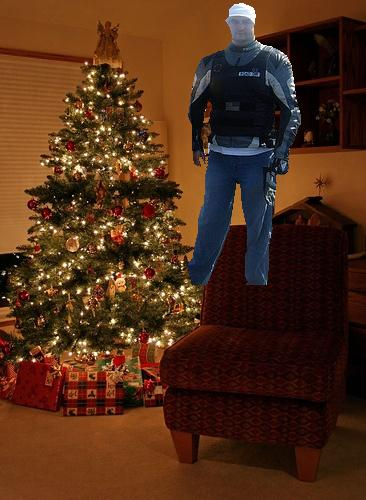tampered: (188, 4, 301, 285)
